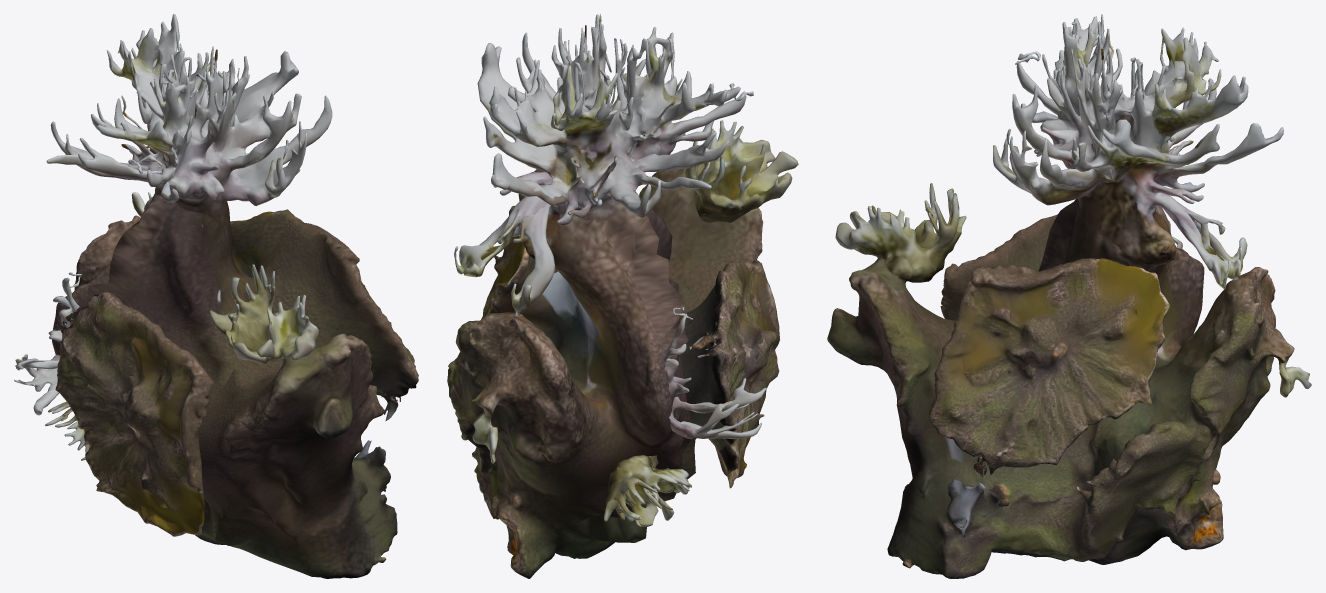
The model's file is liquen1.glb.
The picture shows the model from 3 angles, left to right: view 1: azimuth 30°, elevation 25°; view 2: azimuth 150°, elevation 25°; view 3: azimuth 270°, elevation 25°; orthographic projection. The views are drawn at different scales.
Parts seen in each view (by area): view 1: Liquen1_parte4, Liquen1_parte1, Liquen1_parte2, Liquen1_parte3; view 2: Liquen1_parte4, Liquen1_parte1, Liquen1_parte3, Liquen1_parte2; view 3: Liquen1_parte4, Liquen1_parte3, Liquen1_parte1, Liquen1_parte2.
Part boxes in pixels (x1,y1,x2,y2): Liquen1_parte4: (14,193,418,578); Liquen1_parte1: (46,14,332,222); Liquen1_parte2: (210,264,373,440); Liquen1_parte3: (45,215,225,544); Liquen1_parte4: (481,169,779,501); Liquen1_parte1: (454,14,753,313); Liquen1_parte3: (447,311,691,578); Liquen1_parte2: (639,120,798,266); Liquen1_parte4: (887,198,1204,578); Liquen1_parte3: (1038,267,1311,564); Liquen1_parte1: (993,14,1283,289); Liquen1_parte2: (827,183,966,381).
Size of the model in its own units: 2.56 by 3.84 by 3.29.
1 material, 1 textured.
